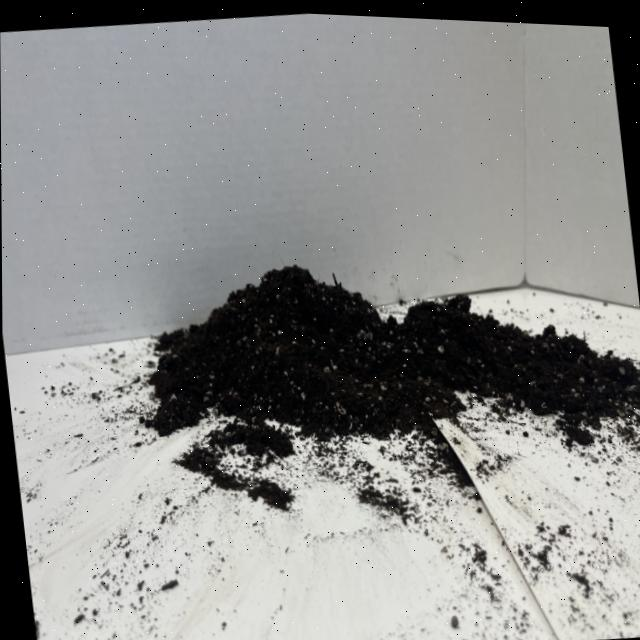soil: (126, 217, 640, 543)
